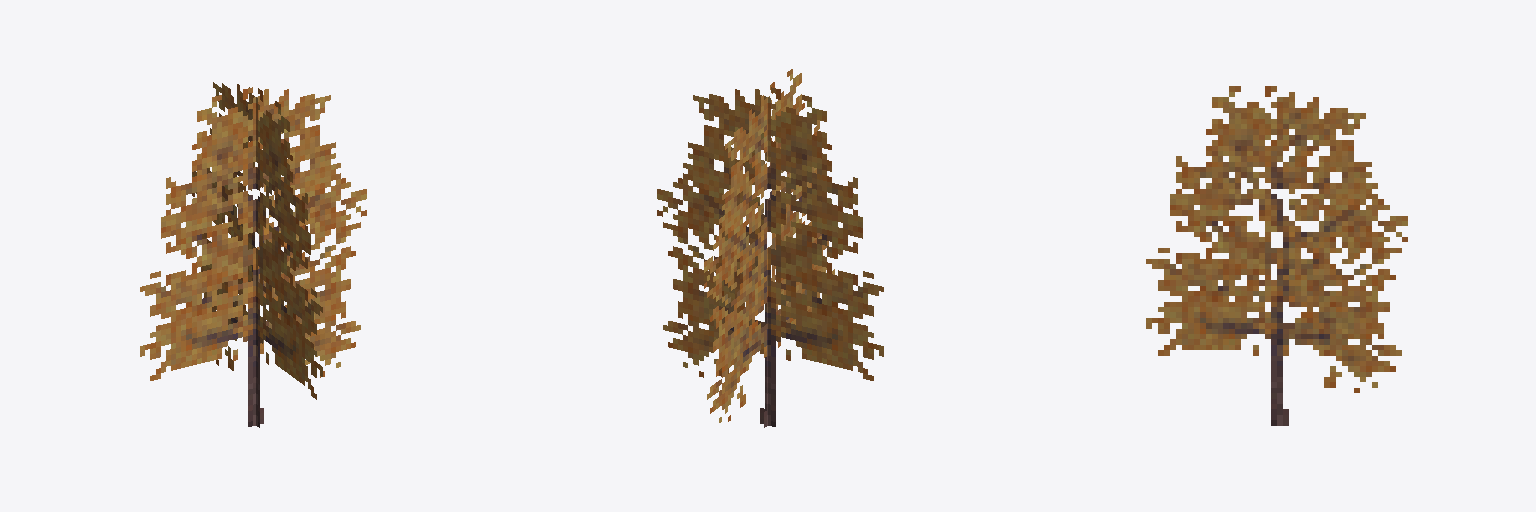
The picture shows the model from 3 angles: view 1: azimuth 30°, elevation 25°; view 2: azimuth 150°, elevation 25°; view 3: azimuth 270°, elevation 25°; orthographic projection.
Parts seen in each view (by area): view 1: tree_large; view 2: tree_large; view 3: tree_large.
Part boxes in pixels (x1,y1,x2,y2): tree_large: (140, 82, 366, 427); tree_large: (657, 69, 883, 427); tree_large: (1146, 86, 1407, 425).
Size of the model in its own units: 1.3 by 1.7 by 1.3.
1 materials, 1 textured.